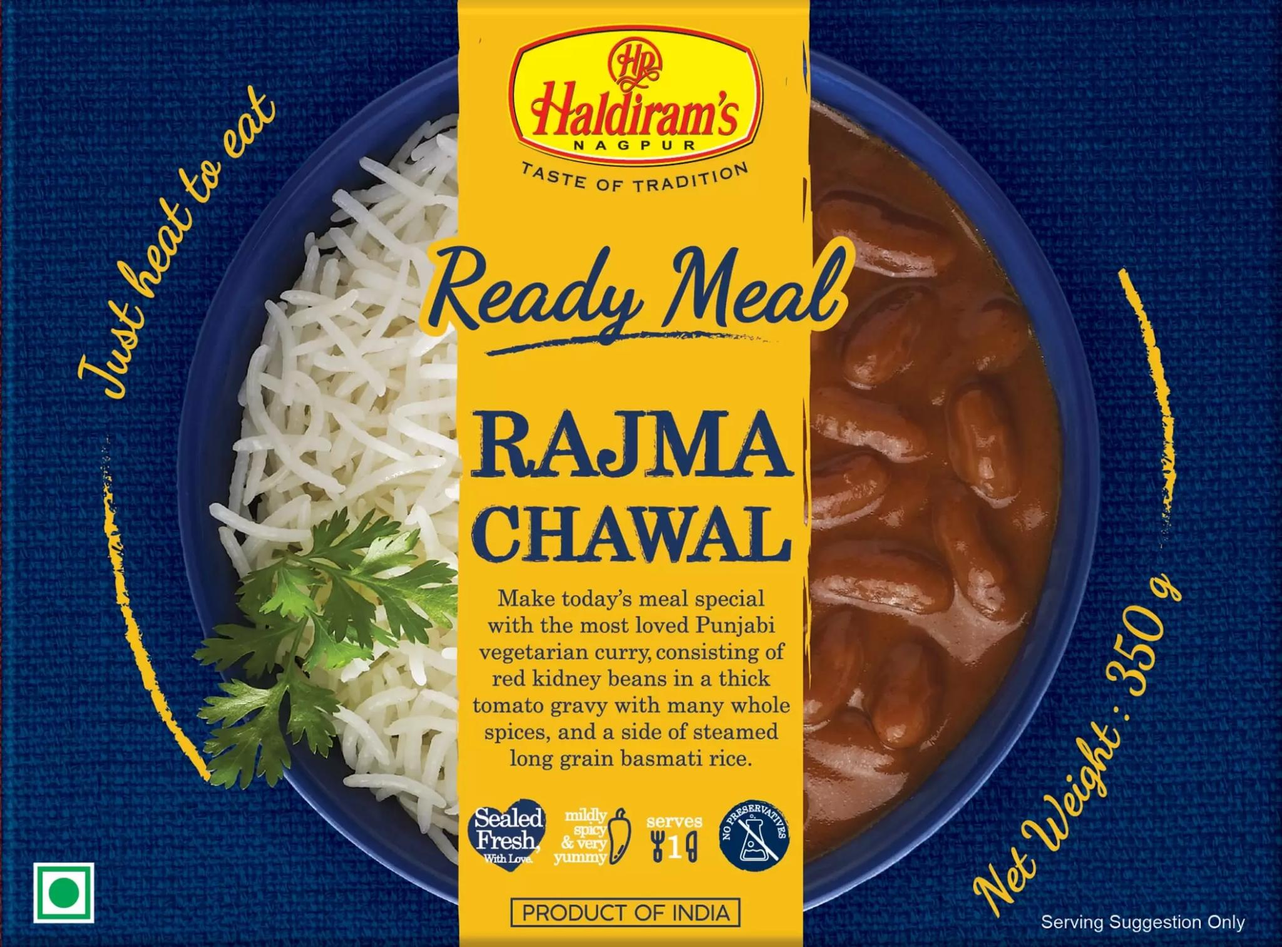rajma: (845, 173, 1060, 847)
rice: (231, 231, 431, 814)
